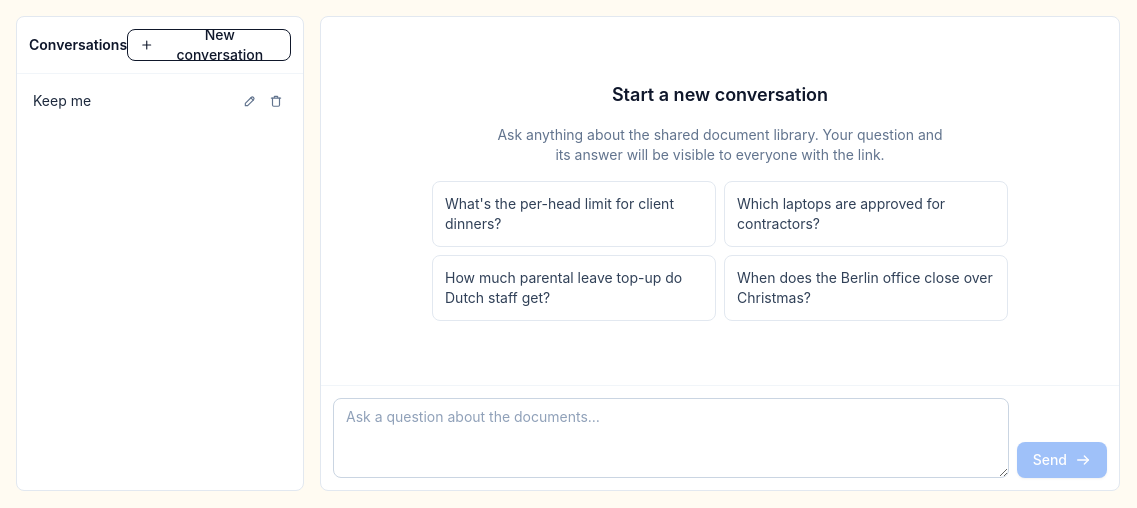
Chat screen — live threads API › blocks saving an empty title and keeps the previous title displayed
This screenshot has width=1137, height=508.
Expected: the button "Keep me" is shown, [33,91,235,111]
Click the button named "Rename Keep me" at x=250, y=101, box [239,90,261,112]
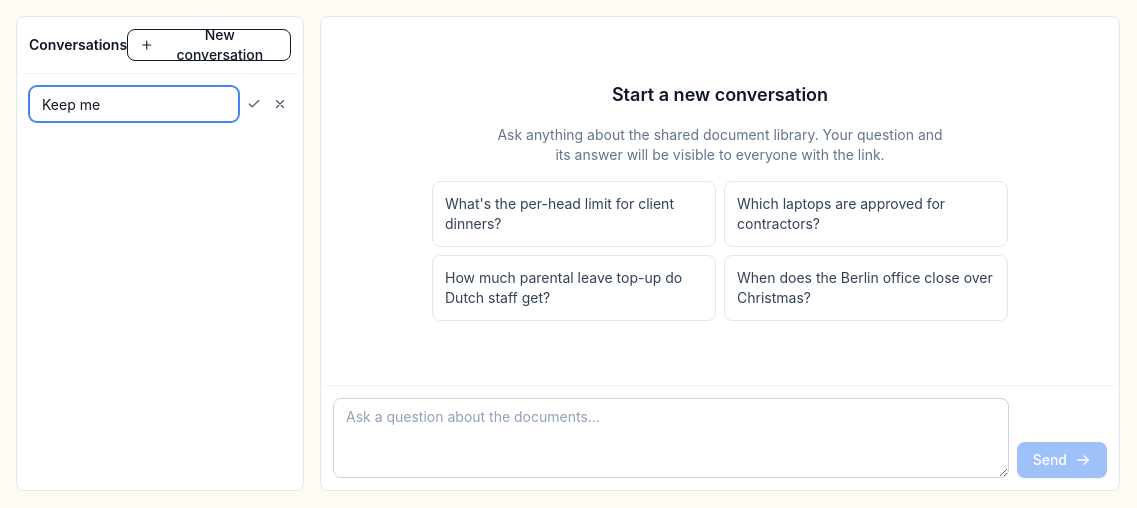
Clear the field named "Conversation title" at x=134, y=104, box [29,86,239,122]
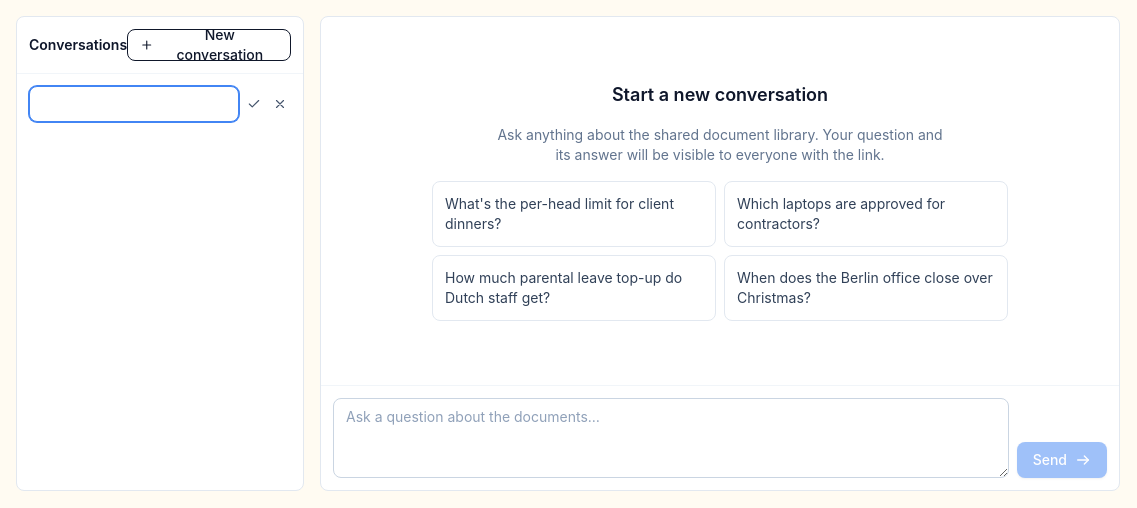
Click the button named "Save title" at x=254, y=104, box [243,93,265,115]
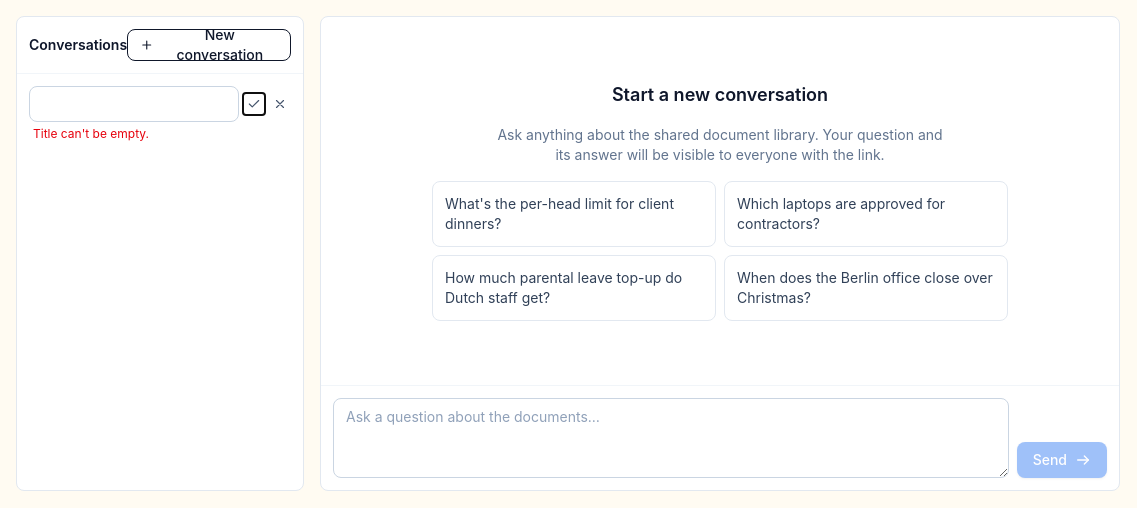
Expected: the text "Title can't be empty." is shown, [33,126,149,141]
Click the button named "Cancel rename" at x=280, y=104, box [269,93,291,115]
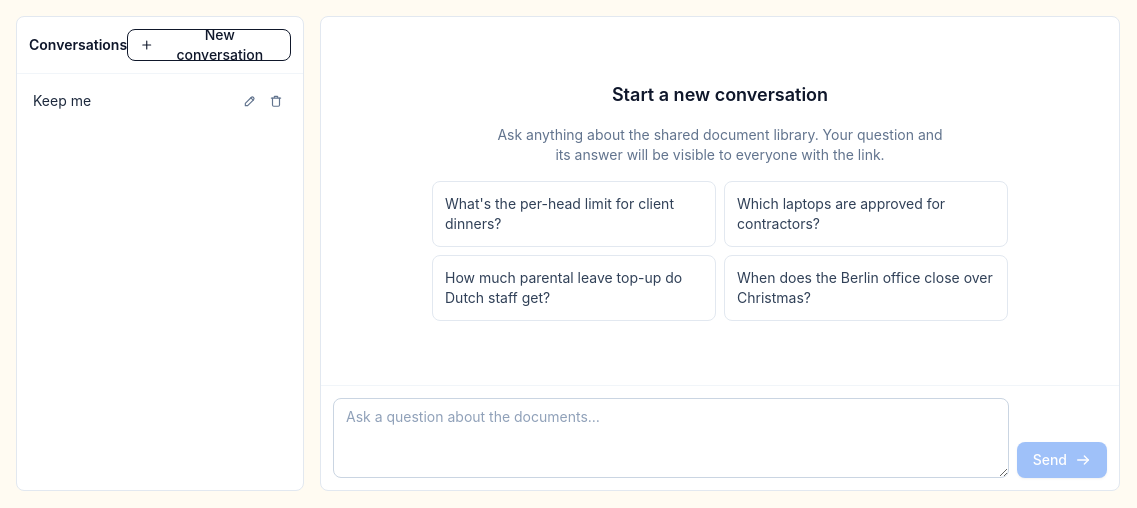
Expected: the button "Keep me" is shown, [33,91,235,111]
